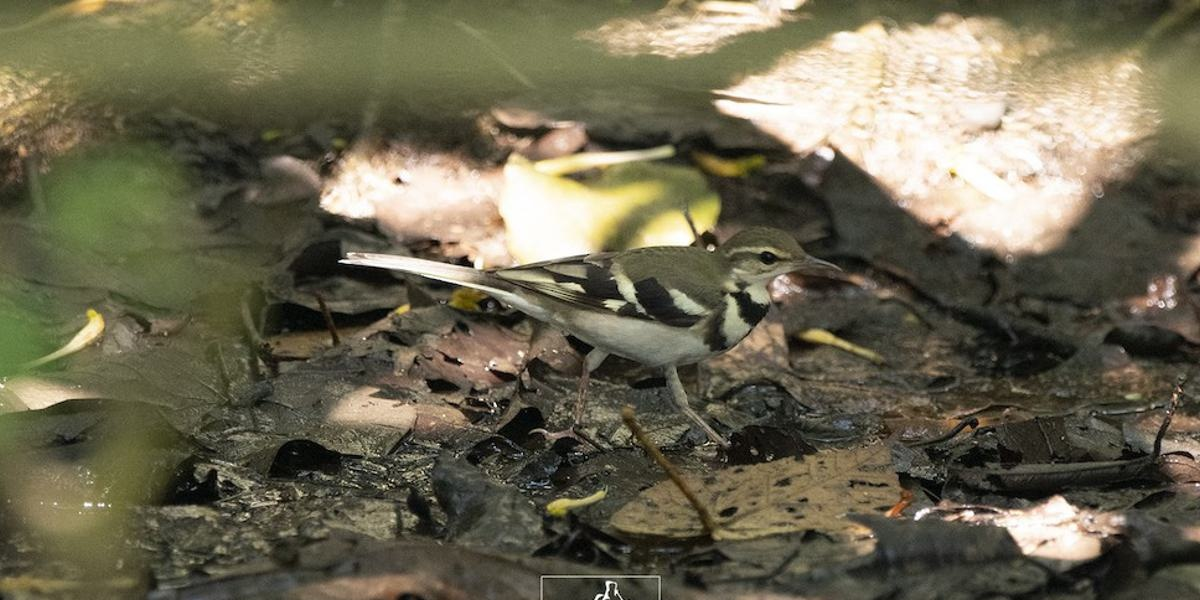wagtail: (341, 205, 855, 414)
